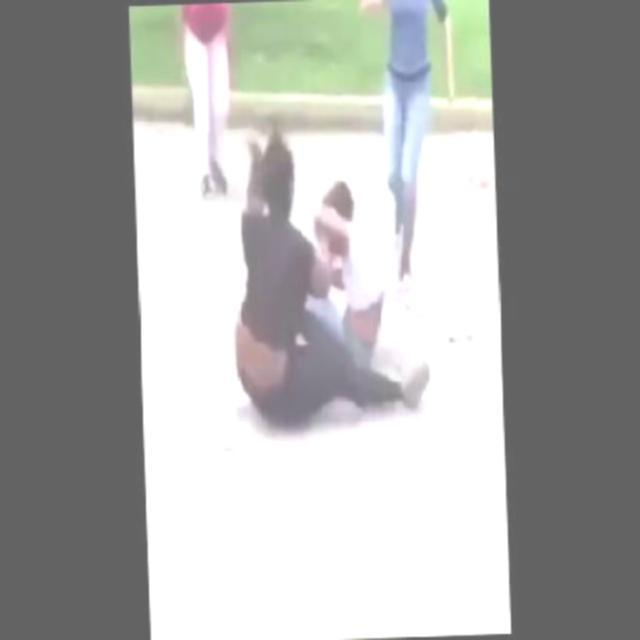fight: (228, 129, 394, 422)
